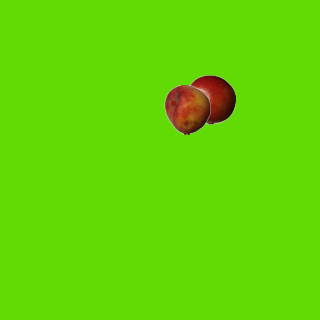Apple Braeburn: (185, 74, 235, 124)
Peach: (162, 84, 212, 134)
